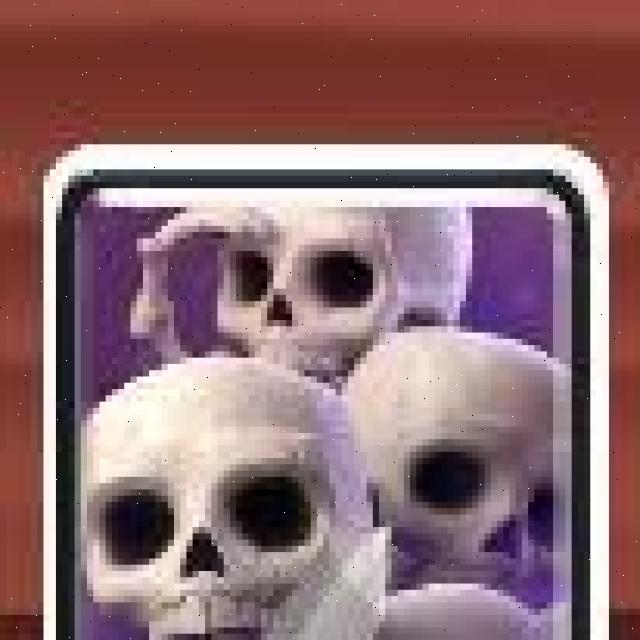Skeleton_Army: (42, 147, 608, 640)
